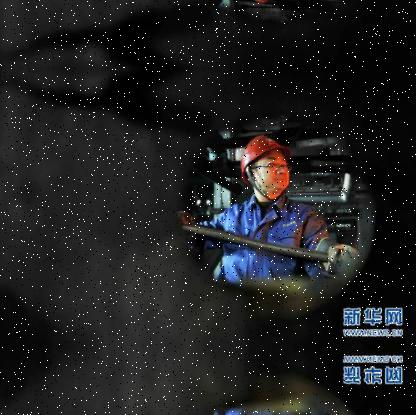helmet: (236, 127, 295, 201)
